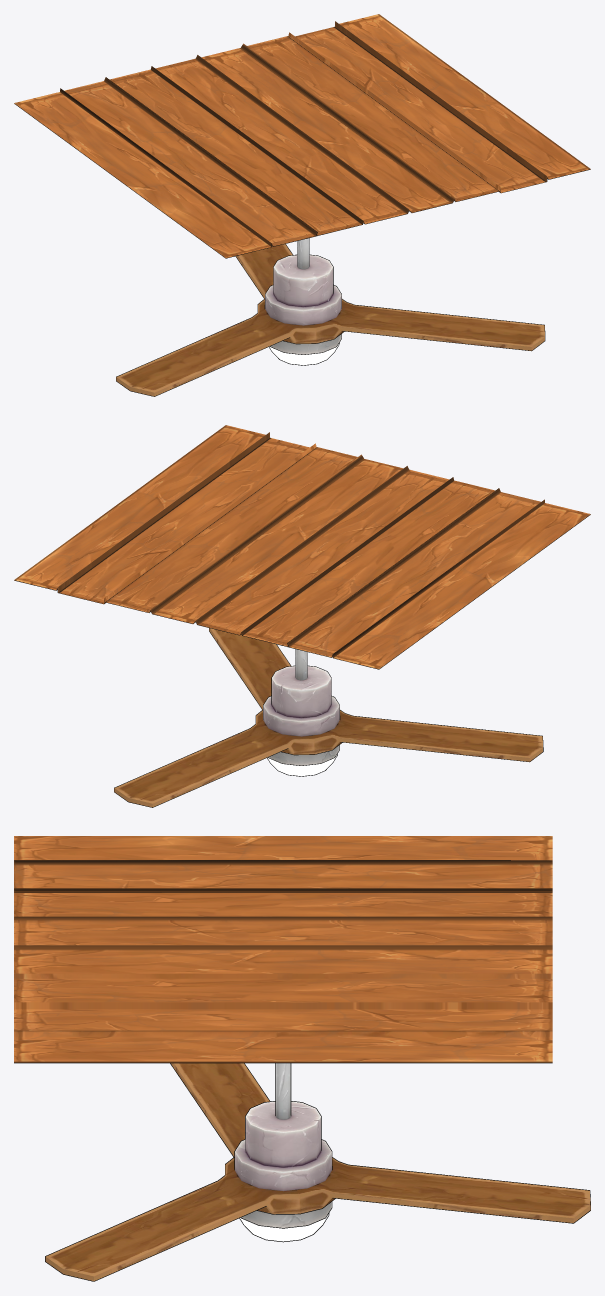
Rendered from stylized_ceiling_fan.glb.
The picture shows the model from 3 angles, top to bottom: view 1: azimuth 30°, elevation 25°; view 2: azimuth 150°, elevation 25°; view 3: azimuth 270°, elevation 25°; orthographic projection. The views are drawn at different scales.
Parts seen in each view (by area): view 1: Ceiling, Fans, Ceiling fan; view 2: Ceiling, Fans, Ceiling fan; view 3: Ceiling, Fans, Ceiling fan.
Part boxes in pixels (x1,y1,x2,y2): Ceiling: (14, 14, 590, 258); Fans: (116, 244, 545, 396); Ceiling fan: (264, 238, 341, 365); Ceiling: (14, 425, 590, 669); Fans: (114, 628, 543, 807); Ceiling fan: (263, 649, 340, 776); Ceiling: (14, 836, 552, 1063); Fans: (45, 1063, 590, 1281); Ceiling fan: (234, 1063, 332, 1242).
Bounding box in the file's own units: 849 × 469 × 857.
3 materials, 2 textured.
